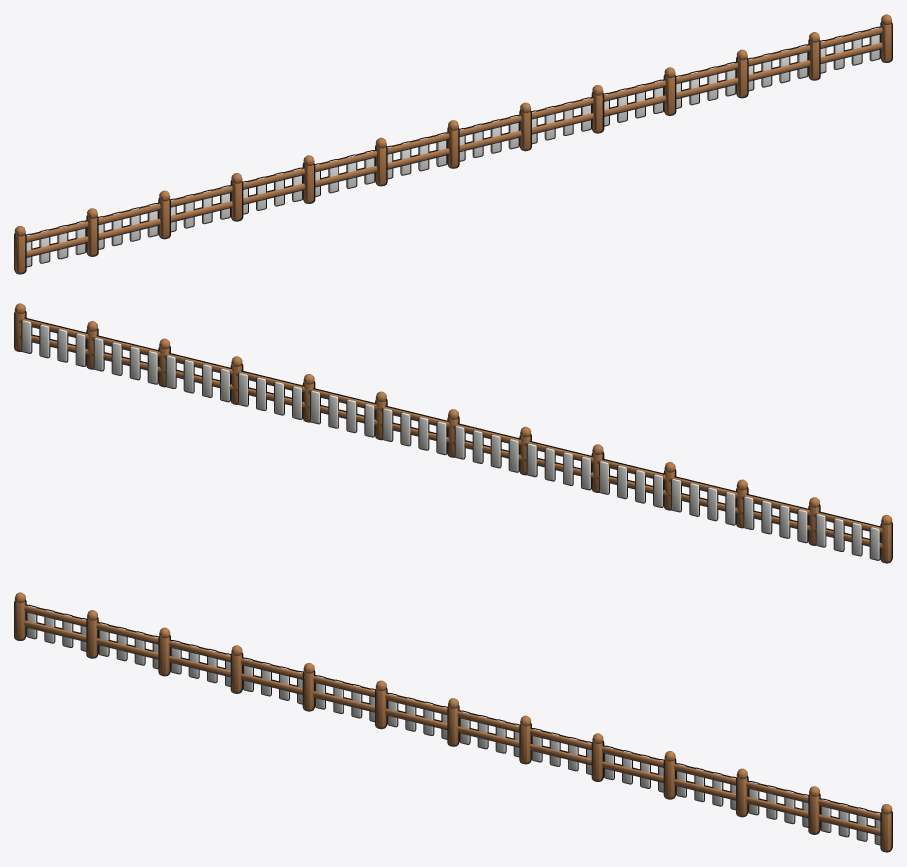
File: Fence_Long.fbx
3 views of the same model, one above another, from view 1: azimuth 30°, elevation 25°; view 2: azimuth 150°, elevation 25°; view 3: azimuth 330°, elevation 25° (orthographic).
Parts seen in each view (by area): view 1: PR_Fence_Long_Wood, PR_Fence_Long_Outline, PR_Fence_Long_White; view 2: PR_Fence_Long_White, PR_Fence_Long_Wood, PR_Fence_Long_Outline; view 3: PR_Fence_Long_Wood, PR_Fence_Long_Outline, PR_Fence_Long_White.
Boxes of the visible parts, box(x1,y1,x2,y2) form: PR_Fence_Long_Wood: box(14, 14, 892, 272); PR_Fence_Long_Outline: box(14, 21, 892, 274); PR_Fence_Long_White: box(26, 27, 879, 266); PR_Fence_Long_White: box(22, 320, 879, 559); PR_Fence_Long_Wood: box(14, 303, 892, 561); PR_Fence_Long_Outline: box(14, 310, 892, 563); PR_Fence_Long_Wood: box(14, 592, 892, 850); PR_Fence_Long_Outline: box(14, 599, 892, 852); PR_Fence_Long_White: box(27, 605, 880, 844).
Bounding box in the file's own units: 24.29 × 1.25 × 0.323.
